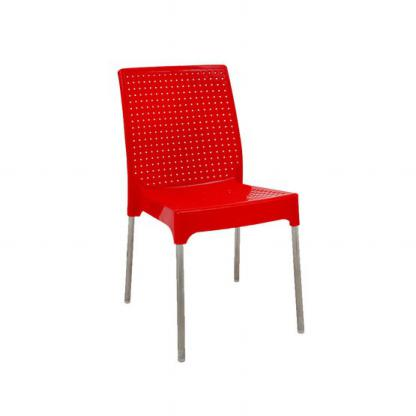chair: (113, 63, 312, 369)
